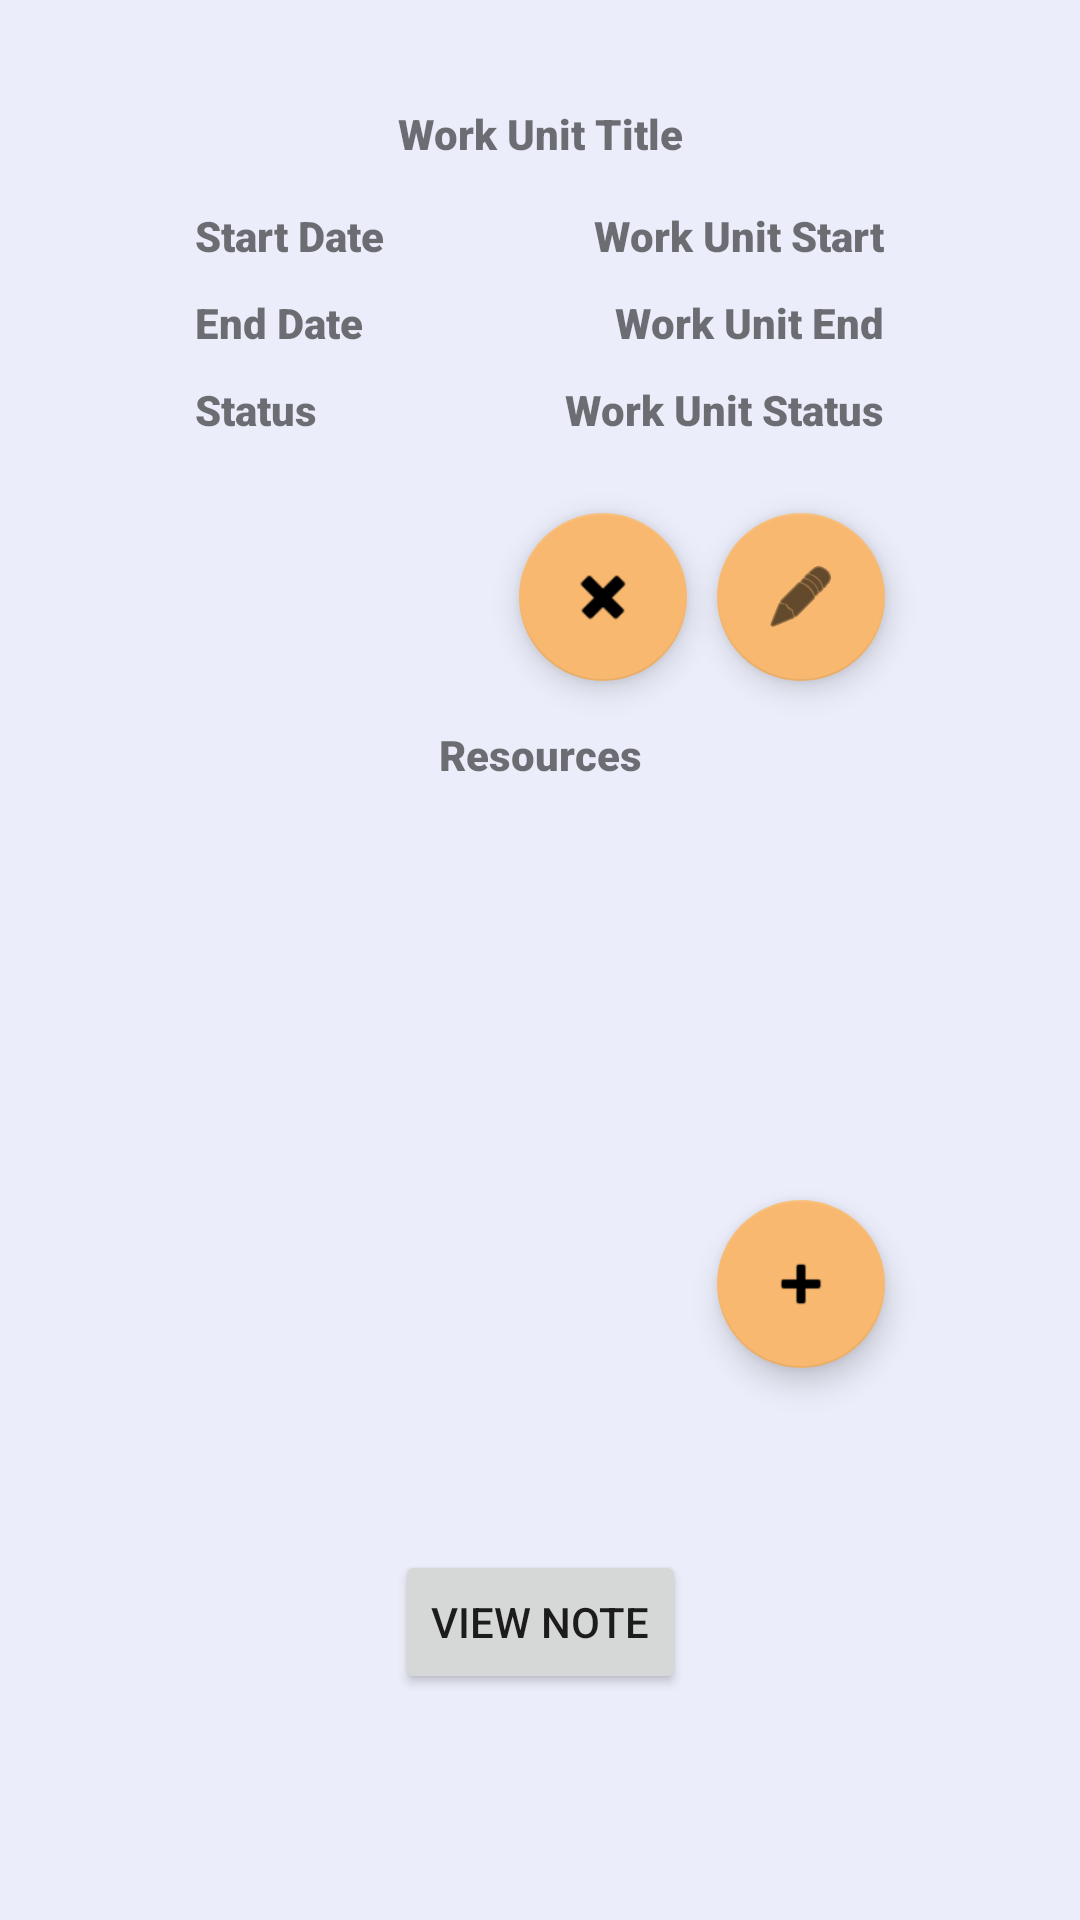

Where to tap for icons on this 1080w x 1920h app screen, as (x,y):
add: (801,1284)
delete: (603,597)
edit: (801,597)
